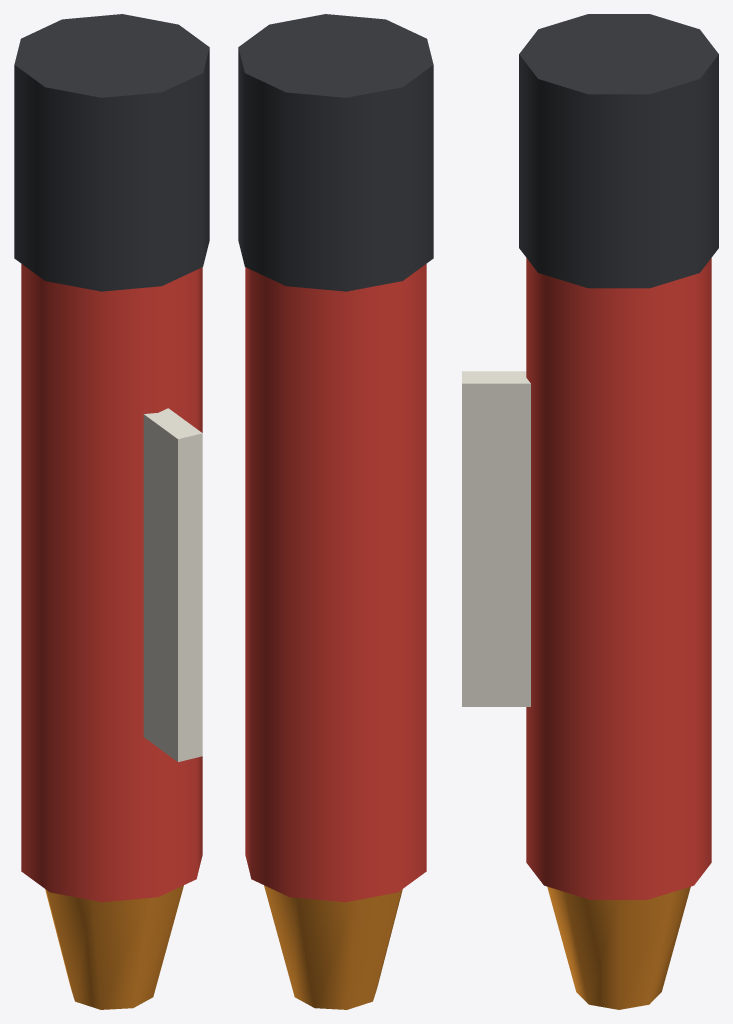
The model's file is stim.glb.
The picture shows the model from 3 angles, left to right: view 1: azimuth 30°, elevation 25°; view 2: azimuth 150°, elevation 25°; view 3: azimuth 270°, elevation 25°; orthographic projection.
Parts seen in each view (by area): view 1: Stim; view 2: Stim; view 3: Stim.
Part boxes in pixels (<box>): Stim: <box>14,14,209,1009</box>; Stim: <box>238,14,433,1009</box>; Stim: <box>462,14,718,1009</box>.
Bounding box in the file's own units: 0.0266 × 0.145 × 0.036.
